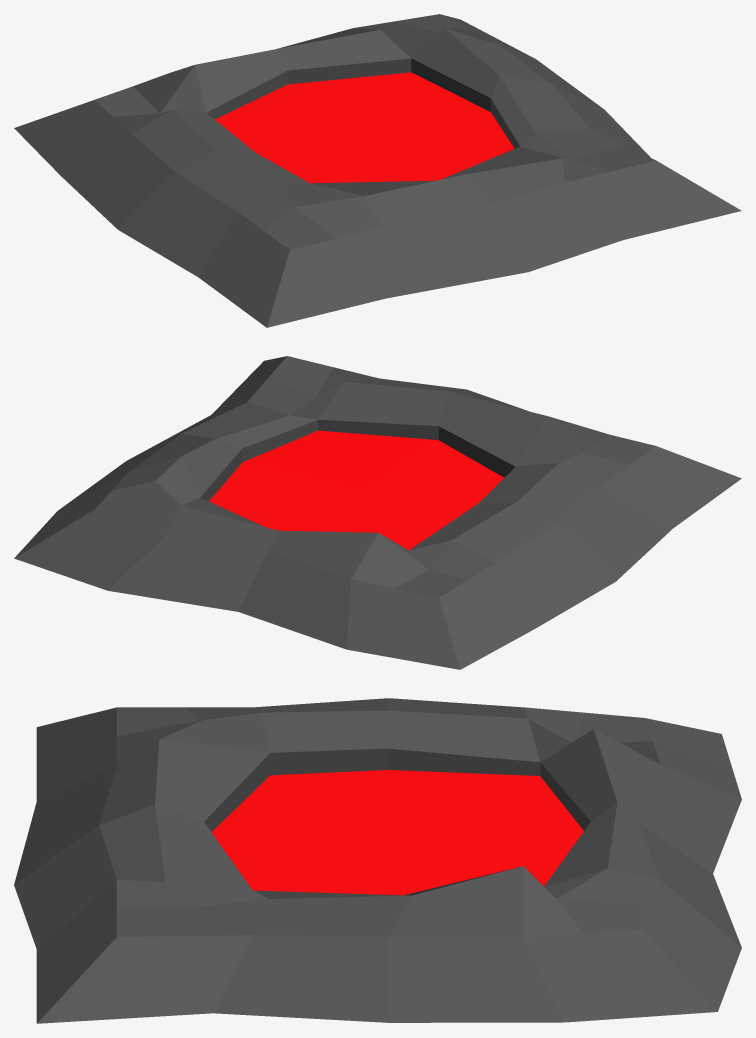
Rendered from Dark Pit.glb.
3 renders of one model, top to bottom at view 1: azimuth 30°, elevation 25°; view 2: azimuth 150°, elevation 25°; view 3: azimuth 270°, elevation 25°, orthographic. The views are drawn at different scales.
Visible parts, largest first — view 1: Dark Pit; view 2: Dark Pit; view 3: Dark Pit.
Part boxes in pixels (box(x1,y1,x2,y2)): Dark Pit: box(14, 14, 741, 327); Dark Pit: box(14, 356, 741, 669); Dark Pit: box(14, 698, 741, 1023).
Bounding box in the file's own units: 1.77 × 0.248 × 1.79.
